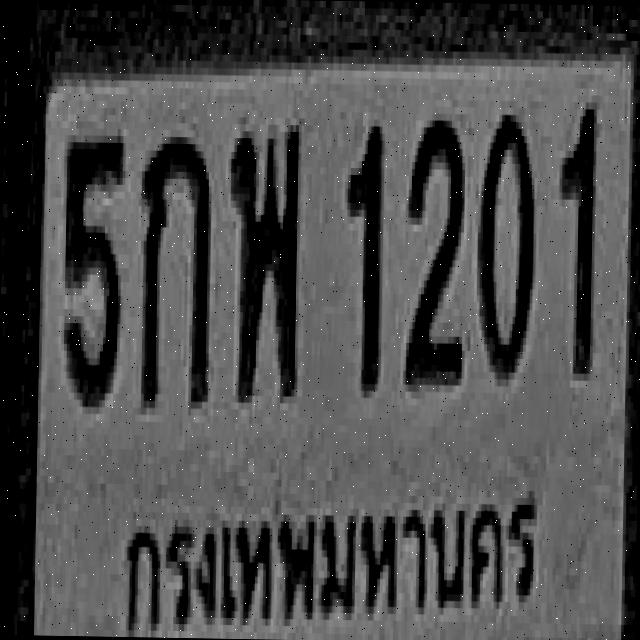0: (475, 110, 535, 376)
1: (342, 118, 383, 390), (556, 102, 596, 374)
10GorGai: (139, 132, 211, 406)
2: (404, 113, 464, 385)
39PhorPan: (228, 120, 300, 400)
5: (62, 132, 125, 404)
Bangkok: (114, 469, 540, 640)
